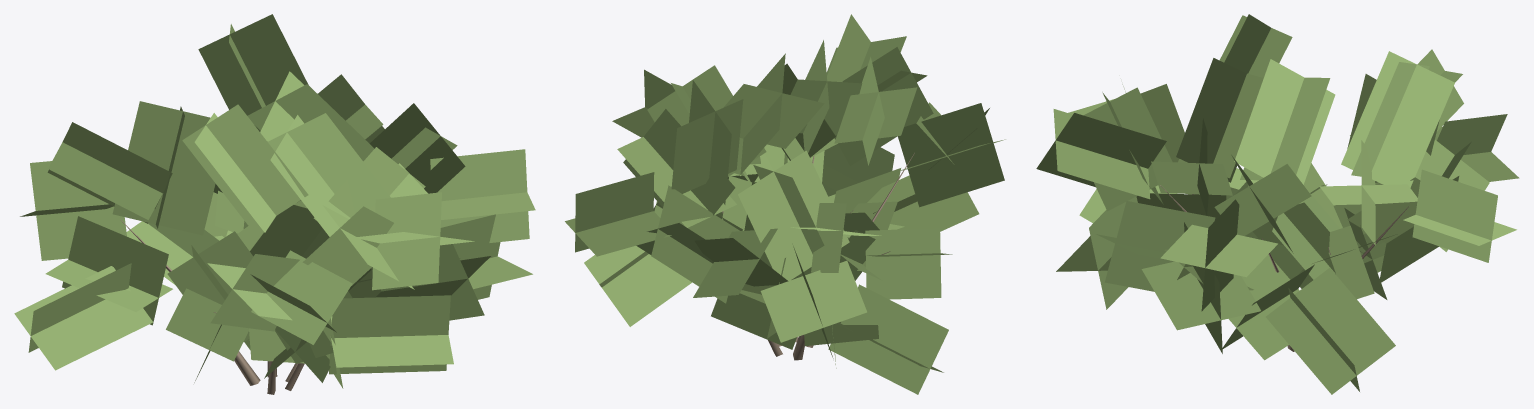
The model's file is Hazel_2_lod1.glb.
3 views of the same model, side by side, from view 1: azimuth 30°, elevation 25°; view 2: azimuth 150°, elevation 25°; view 3: azimuth 270°, elevation 25° (orthographic). The views are drawn at different scales.
Parts seen in each view (by area): view 1: Hazel_2_lod1; view 2: Hazel_2_lod1; view 3: Hazel_2_lod1.
Part boxes in pixels (left/top/right/bottom): Hazel_2_lod1: left=14, top=14, right=535, bottom=394; Hazel_2_lod1: left=565, top=14, right=1005, bottom=394; Hazel_2_lod1: left=1036, top=14, right=1519, bottom=394.
Size of the model in its own units: 3.83 by 2.76 by 3.95.
